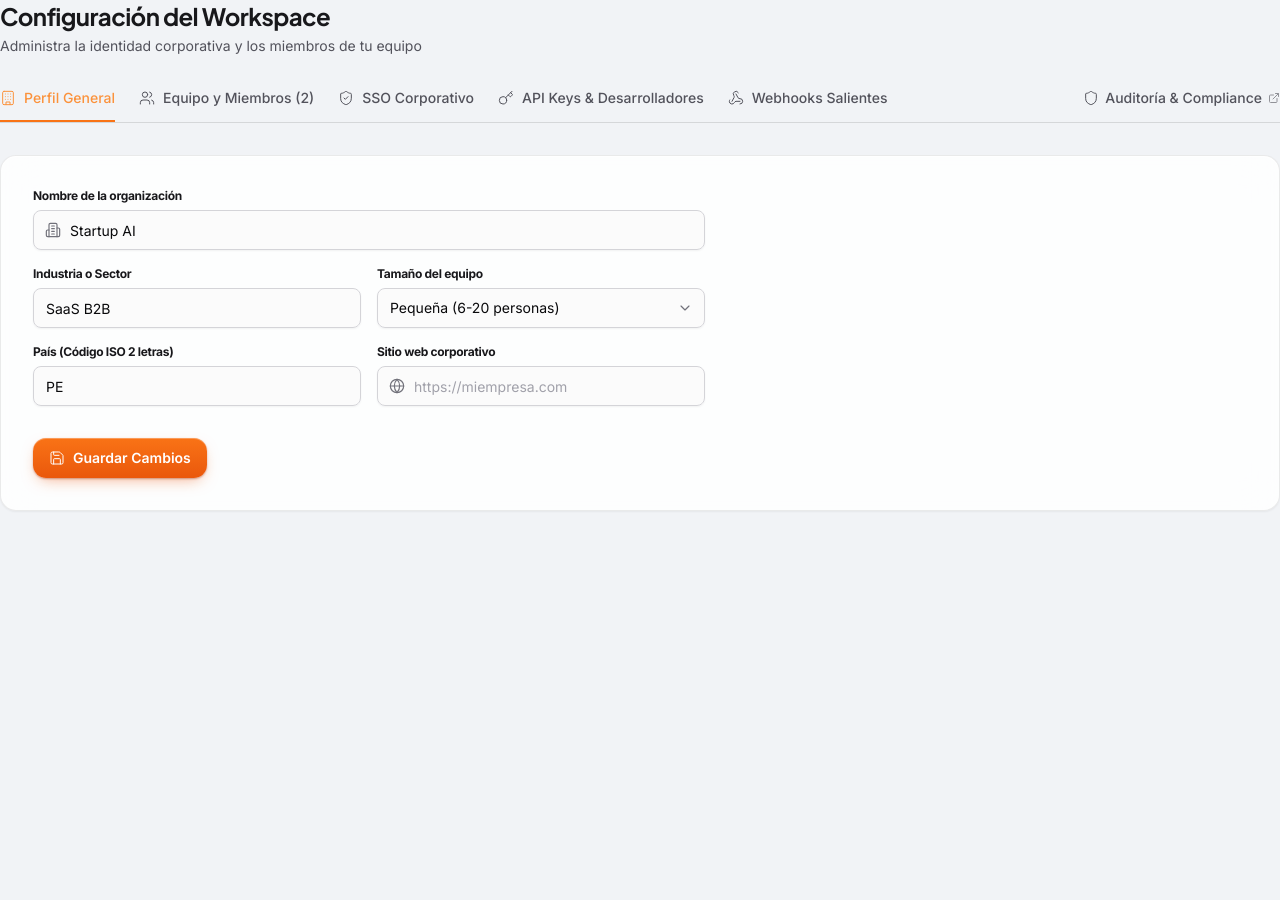
Test: SettingsPage Component › permite abrir el modal de invitar miembro
Note: Cambiar a la pestaña de miembros
Click the button "Equipo y Miembros (2)" at (227, 105), box [139,88,314,122]
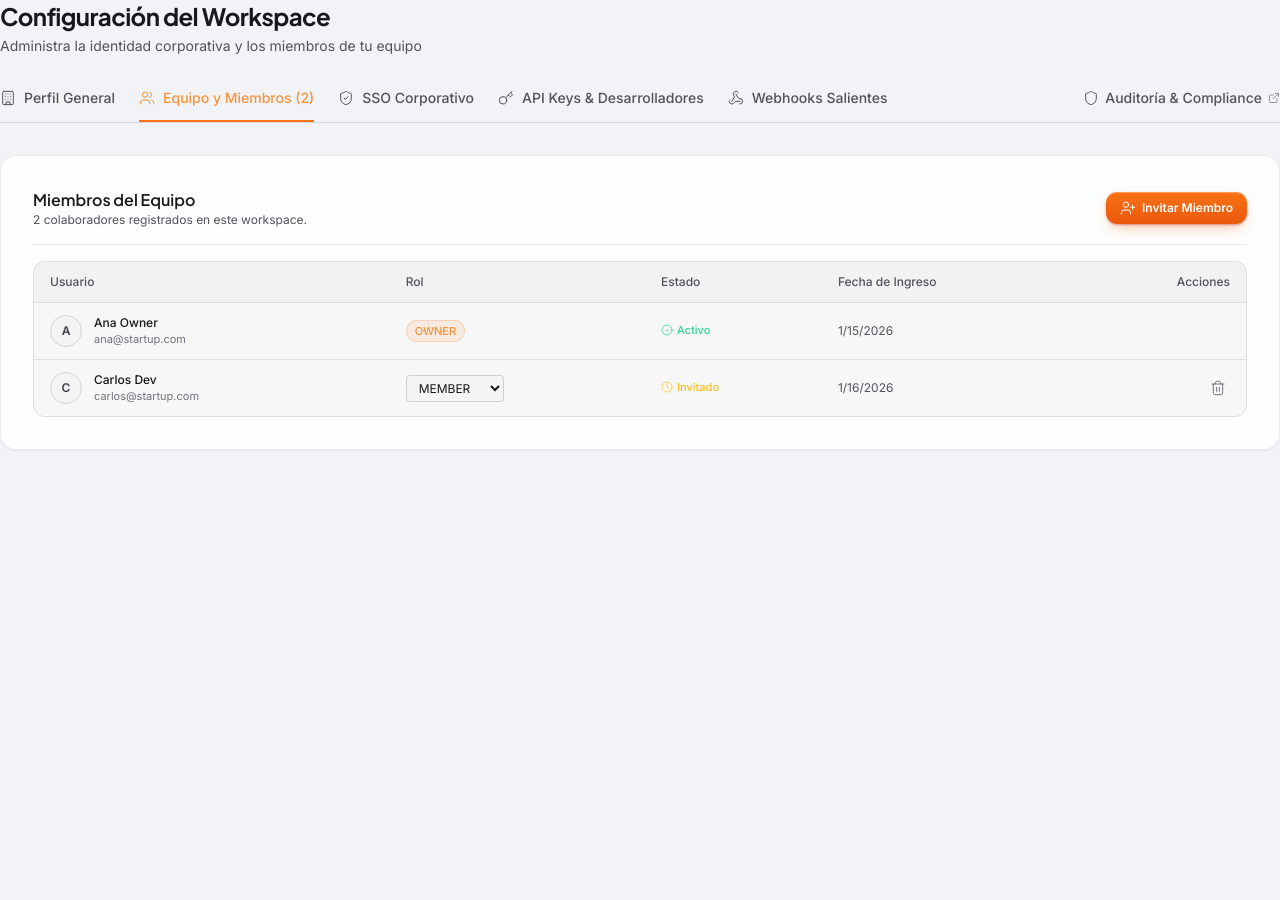
Click the button "Invitar Miembro" at (1176, 208), box [1106,192,1247,224]
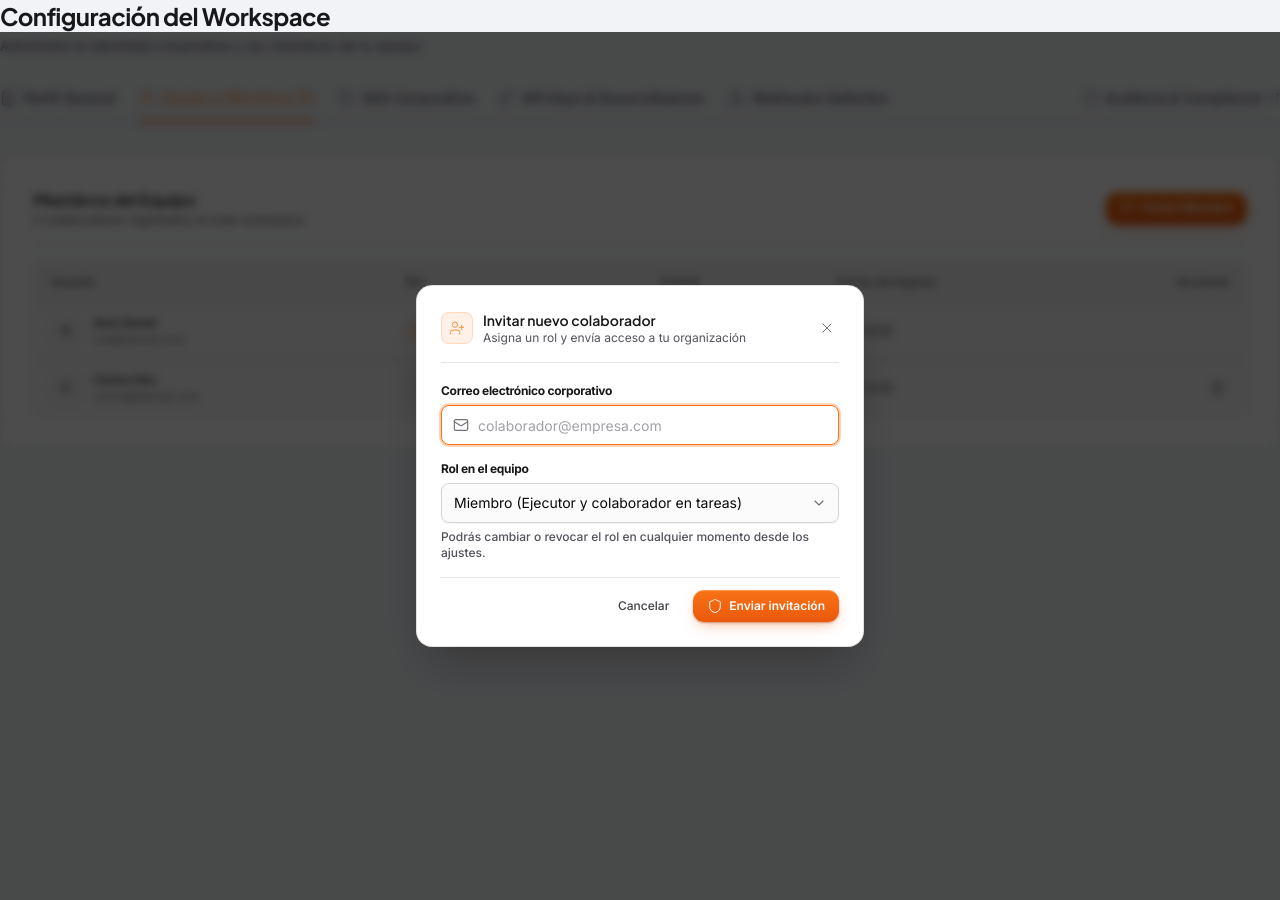
Expected: the heading "Invitar nuevo colaborador" is shown, [483,311,656,329]
